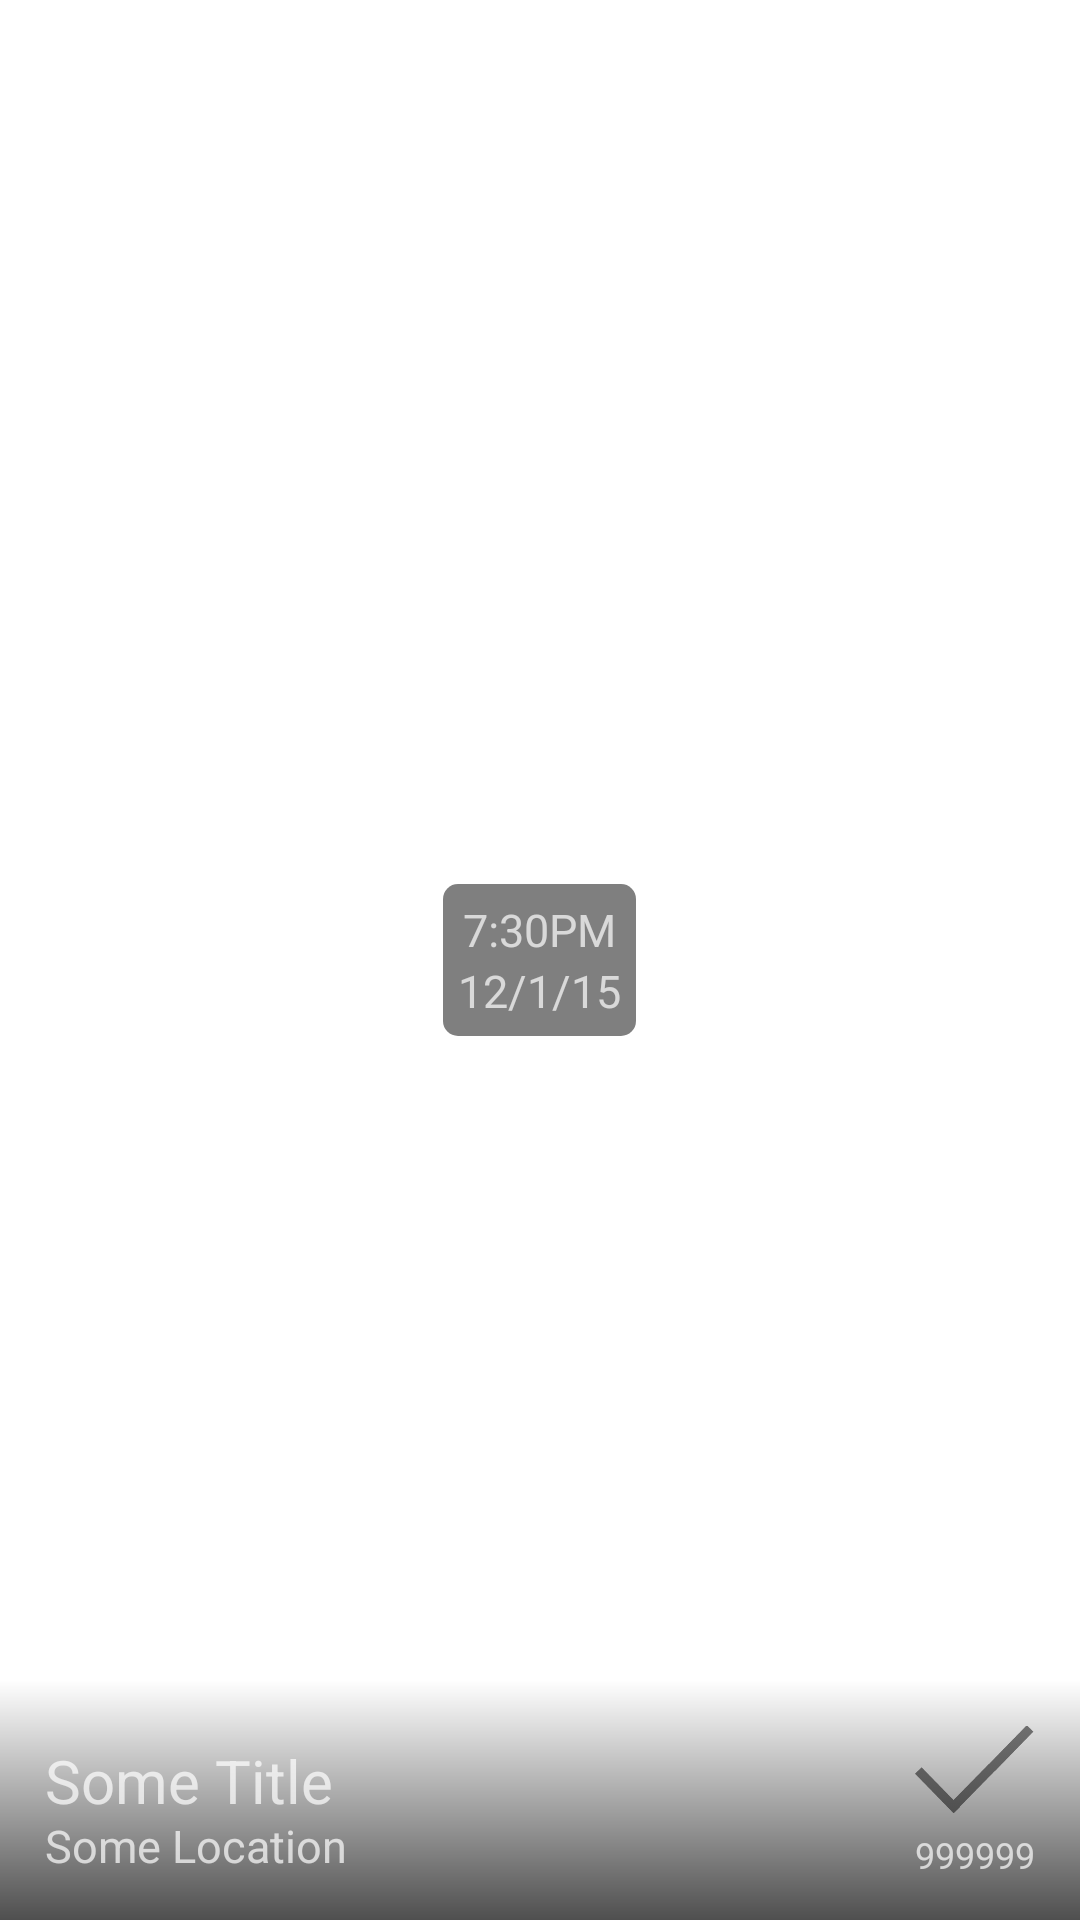

Icons on this 1080px x 1920px Android screen, each with the point to tap as (x=x, y=y):
checkmark: (x=975, y=1770)
